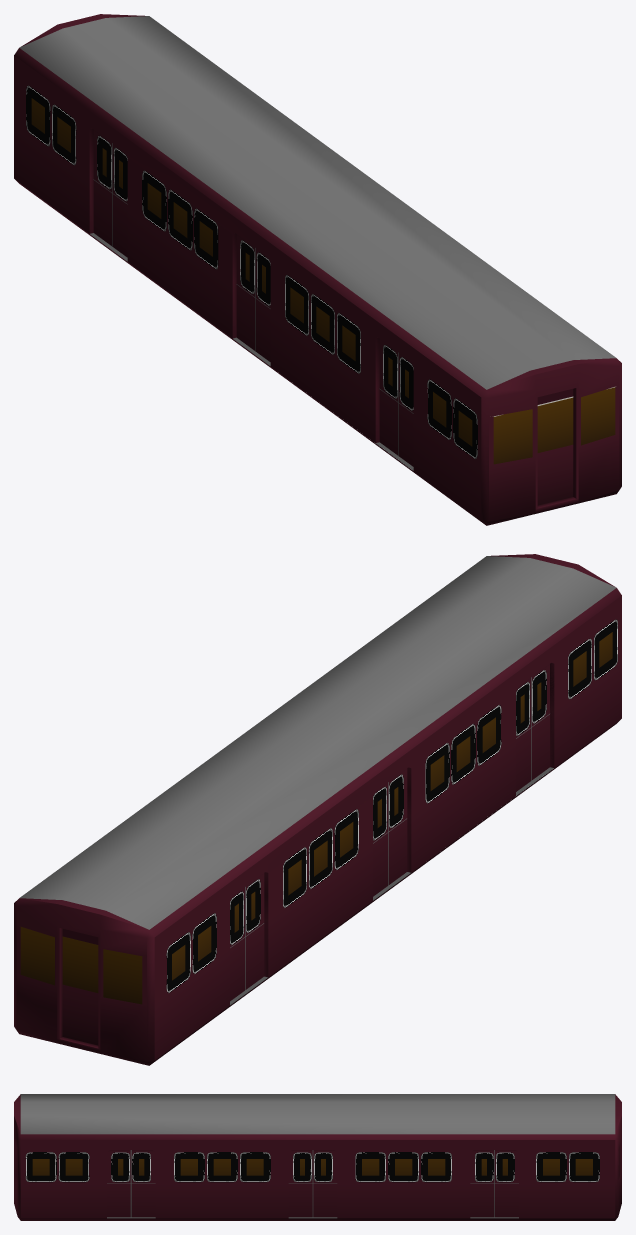
3 views of the same model, one above another, from view 1: azimuth 30°, elevation 25°; view 2: azimuth 150°, elevation 25°; view 3: azimuth 270°, elevation 25° (orthographic). The views are drawn at different scales.
Parts seen in each view (by area): view 1: obj11; view 2: obj11; view 3: obj11.
Boxes of the visible parts, x1=… form: obj11: x1=14, y1=14, x2=621, y2=525; obj11: x1=14, y1=554, x2=621, y2=1065; obj11: x1=14, y1=1094, x2=621, y2=1220.
Bounding box in the file's own units: 6.53 × 6.42 × 38.46.
Materials: 8 (7 with a texture image).
